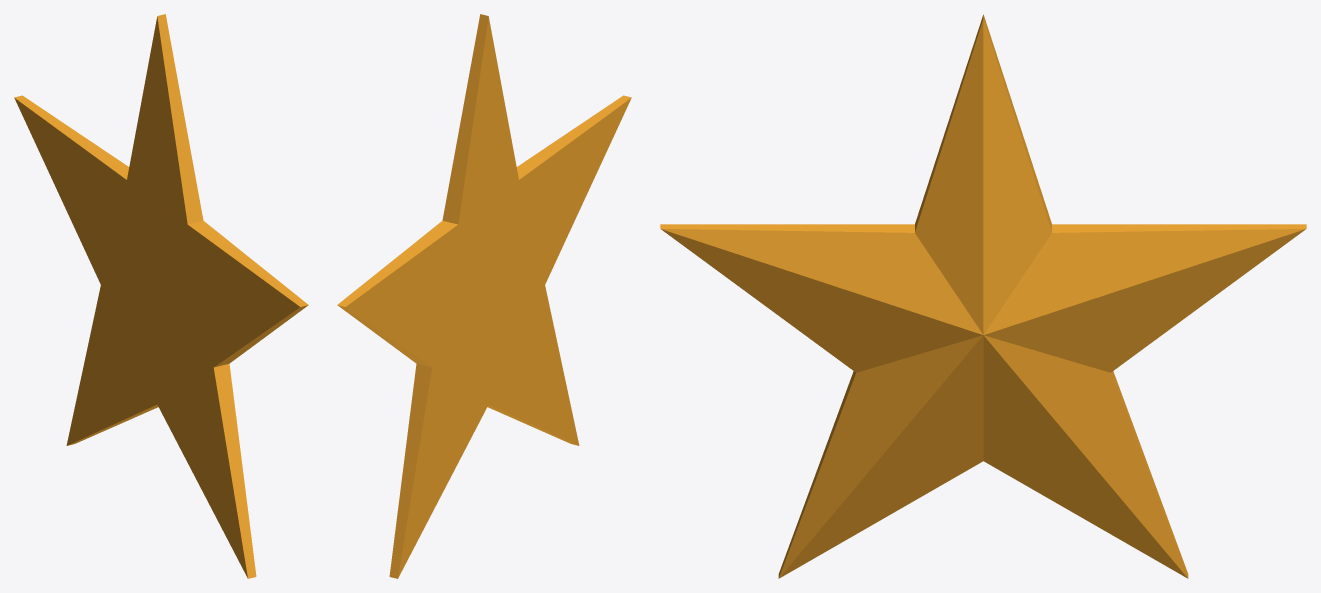
Rendered from Yellow Star.glb.
3 views of the same model, side by side, from view 1: azimuth 30°, elevation 25°; view 2: azimuth 150°, elevation 25°; view 3: azimuth 270°, elevation 25° (orthographic). The views are drawn at different scales.
Parts seen in each view (by area): view 1: Star.004; view 2: Star.004; view 3: Star.004.
Part boxes in pixels (<box>): Star.004: <box>14,14,308,578</box>; Star.004: <box>337,14,631,578</box>; Star.004: <box>660,14,1306,578</box>.
Bounding box in the file's own units: 0.3469 × 3.86 × 4.03.
Materials: 1 (1 with a texture image).
